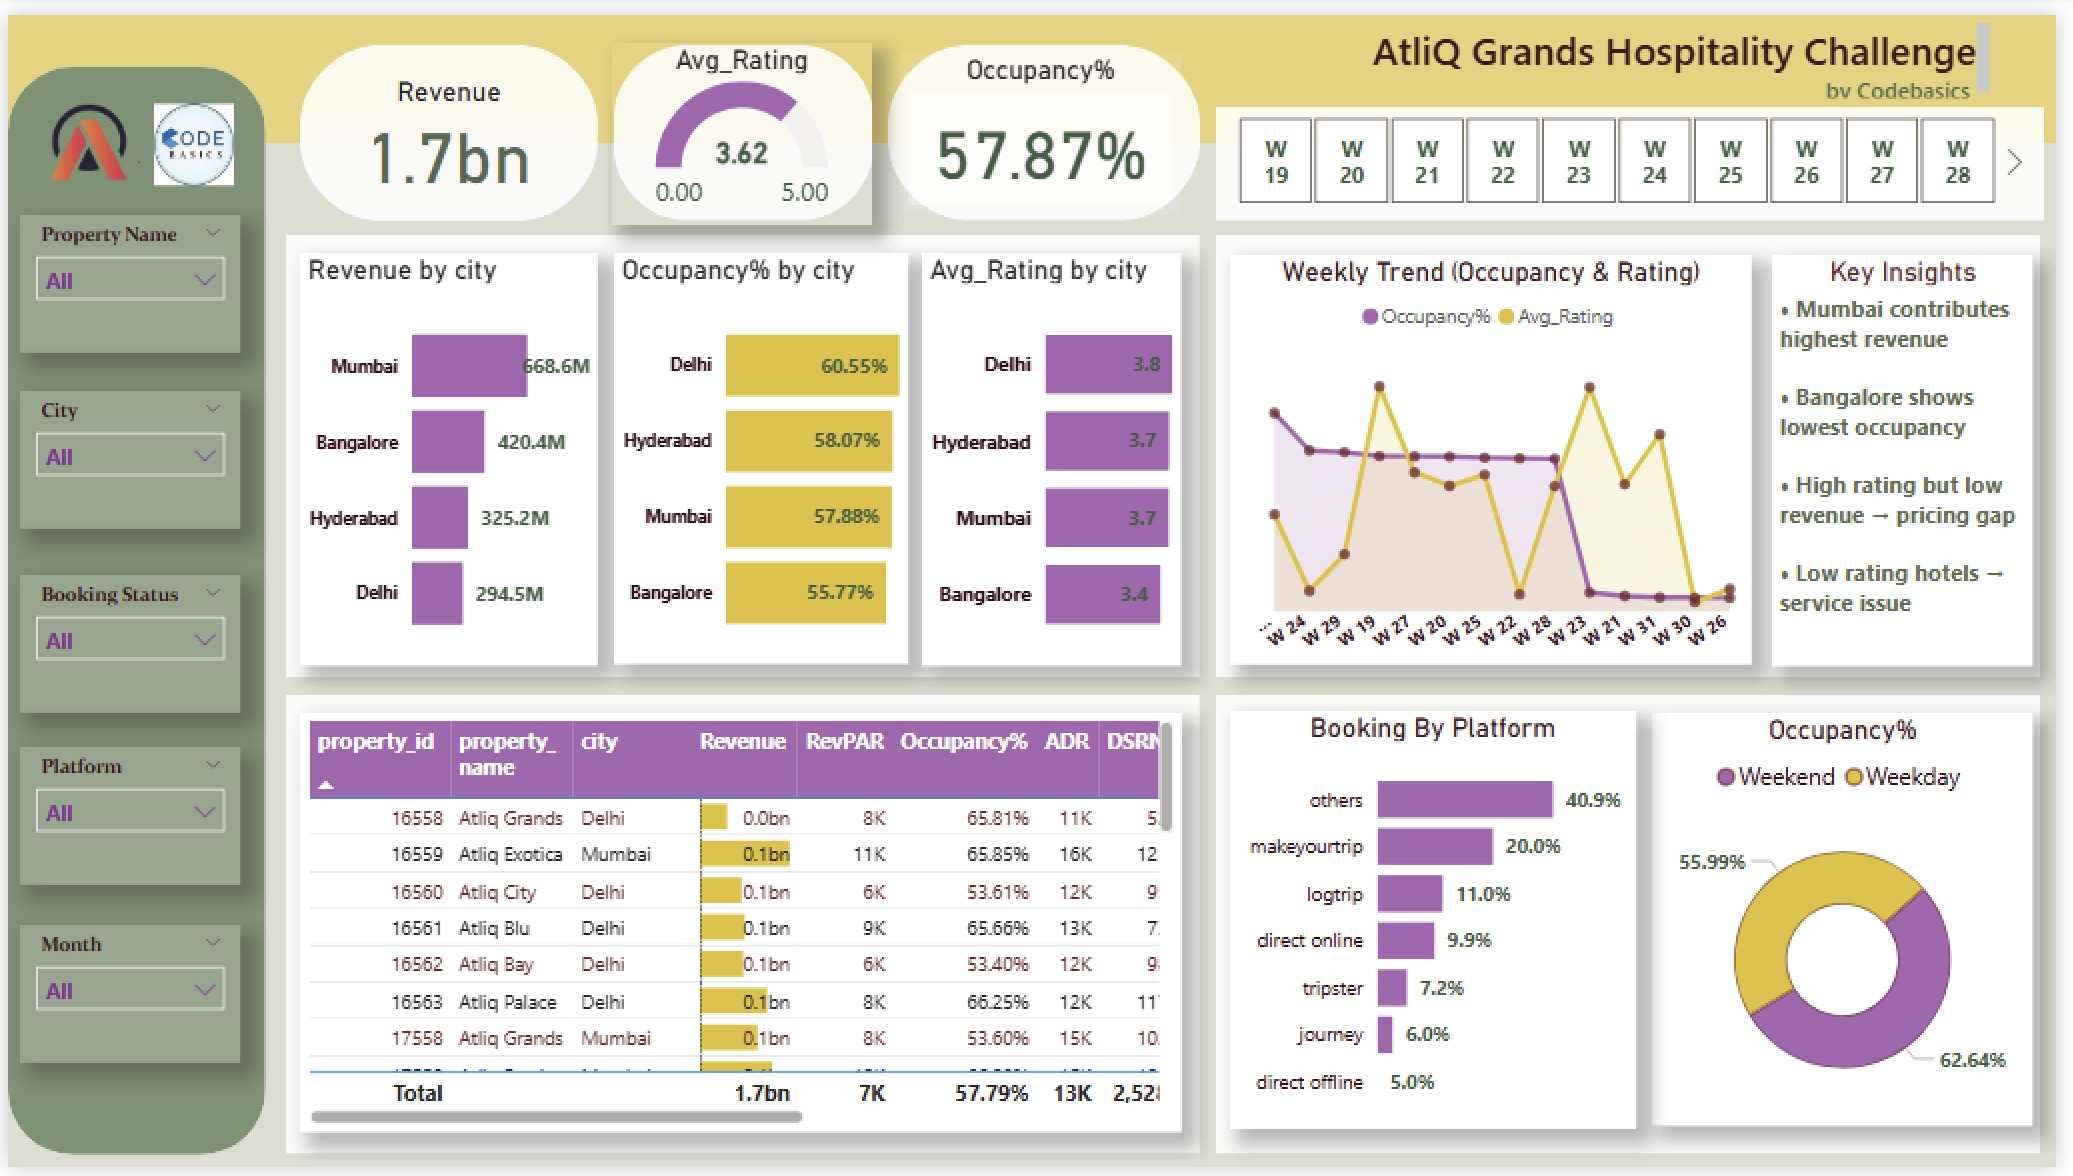

The page's visual inventory and layout, read from the dashboard file:
{"tool":"powerbi","page":{"name":"Executive Overview","canvas":[1280,720],"ordinal":0},"visuals":[{"type":"shape","box":[754.7,137.7,515.1,276.7],"z":0},{"type":"shape","box":[0,0,1280,80.3],"z":1000},{"type":"shape","box":[754.7,424.5,515.1,286.9],"z":2000},{"type":"donutChart","title":"Occupancy%","fields":{"Y":["Key_Measures.Occupancy%"],"Category":["dim_date.Day_Type"]},"box":[1027.4,435.7,238.1,258.3],"z":3000},{"type":"clusteredBarChart","title":"Booking By Platform","fields":{"Category":["fact_bookings.booking_platform"],"Y":["Key_Measures.Platform_Booking %"]},"box":[764.3,434.5,253.6,260.7],"z":4000},{"type":"lineChart","title":"Weekly Trend (Occupancy & Rating)","fields":{"Category":["dim_date.week no"],"Y":["Key_Measures.Occupancy%"],"Y2":["Key_Measures.Avg_Rating"]},"box":[764.3,150,326.2,256],"z":5000},{"type":"shape","box":[173.4,424.5,571.2,286.9],"z":6000},{"type":"tableEx","fields":{"Values":["dim_hotels.property_id","dim_hotels.property_name","dim_hotels.city","Key_Measures.Revenue","Key_Measures.RevPAR(Revenue_Per_Available_Room)","Key_Measures.Occupancy%","Key_Measures.ADR(Avg_Daily_Rate)","Key_Measures.DSRN(Daily_Sellable_Room_Nights)","Key_Measures.DBRN(Daily_Booked_Room_Nights)","Key_Measures.DURN(Daily_Utilize_Room_Nights)","Key_Measures.Realisation%(Successful_checked out)","Key_Measures.Cancellation%"]},"box":[182.1,435.7,551.2,261.9],"z":7000},{"type":"shape","box":[173.4,137.7,571.2,276.7],"z":8000},{"type":"clusteredBarChart","fields":{"Category":["dim_hotels.city"],"Y":["Key_Measures.Revenue"]},"box":[182.3,149.2,186.1,257.5],"z":9000},{"type":"clusteredBarChart","fields":{"Category":["dim_hotels.city"],"Y":["Key_Measures.Occupancy%"]},"box":[378.6,149.2,183.6,257],"z":10000},{"type":"clusteredBarChart","fields":{"Y":["Key_Measures.Avg_Rating"],"Category":["dim_hotels.city"]},"box":[571.2,149.2,161.9,257.5],"z":11000},{"type":"shape","box":[0,32.2,160.9,679.8],"z":12000},{"type":"slicer","fields":{"Values":["dim_hotels.property_name"]},"box":[8,124.7,138.1,85.8],"z":13000},{"type":"shape","box":[754.7,57.4,517.6,71.4],"z":14000},{"type":"slicer","fields":{"Values":["dim_date.week no"]},"box":[744.1,57.7,521.6,67],"z":15000},{"type":"shape","box":[549.5,19.1,195.1,109.6],"z":16000},{"type":"shape","box":[182.3,18.8,186.4,109.9],"z":17000},{"type":"cardVisual","title":"Revenue","fields":{"Data":["Key_Measures.Revenue"]},"box":[185.7,37.1,178.6,74.3],"z":18000},{"type":"shape","box":[378.6,19.1,161.9,109.6],"z":19000},{"type":"cardVisual","title":"Occupancy%","fields":{"Data":["Key_Measures.Occupancy%"]},"box":[557.8,24.1,175.6,100.6],"z":20000},{"type":"gauge","fields":{"Y":["Key_Measures.Avg_Rating"]},"box":[378.1,17.4,162.2,114],"z":21000},{"type":"slicer","title":"Booking Platform","fields":{"Values":["fact_bookings.booking_platform"]},"box":[8,457.2,138.1,85.8],"z":22000},{"type":"slicer","fields":{"Values":["dim_date.mmm yy"]},"box":[8,568.5,138.1,85.8],"z":23000},{"type":"slicer","title":"Booking Platform","fields":{"Values":["fact_bookings.booking_status"]},"box":[8,349.9,138.1,85.8],"z":24000},{"type":"slicer","title":"Booking Platform","fields":{"Values":["dim_hotels.city"]},"box":[8,234.6,138.1,85.8],"z":25000},{"type":"textbox","box":[832.8,0,410.8,57.3],"z":26000},{"type":"image","box":[85.8,46.9,60.3,67],"z":27000},{"type":"image","box":[8,40.2,81.8,79.1],"z":28000},{"type":"textbox","title":"Key Insights","box":[1102.5,149.5,163.5,257.1],"z":29500}]}

Visuals, with their boxes in screenshot pixels (x1, y1, x2, y2), scaled from the page's 1280x720 canvas onto the 2073x1176 screenshot:
shape: [x1=1222, y1=225, x2=2056, y2=677]
shape: [x1=0, y1=0, x2=2072, y2=131]
shape: [x1=1222, y1=693, x2=2056, y2=1162]
"Occupancy%" donutChart: [x1=1664, y1=712, x2=2050, y2=1134]
"Booking By Platform" clusteredBarChart: [x1=1238, y1=710, x2=1649, y2=1135]
"Weekly Trend (Occupancy & Rating)" lineChart: [x1=1238, y1=245, x2=1766, y2=663]
shape: [x1=281, y1=693, x2=1206, y2=1162]
tableEx - dim_hotels.property_id x dim_hotels.property_name: [x1=295, y1=712, x2=1188, y2=1139]
shape: [x1=281, y1=225, x2=1206, y2=677]
clusteredBarChart - dim_hotels.city x Key_Measures.Revenue: [x1=295, y1=244, x2=597, y2=664]
clusteredBarChart - dim_hotels.city x Key_Measures.Occupancy%: [x1=613, y1=244, x2=911, y2=663]
clusteredBarChart - Key_Measures.Avg_Rating x dim_hotels.city: [x1=925, y1=244, x2=1187, y2=664]
shape: [x1=0, y1=53, x2=261, y2=1163]
slicer - dim_hotels.property_name: [x1=13, y1=204, x2=237, y2=344]
shape: [x1=1222, y1=94, x2=2061, y2=210]
slicer - dim_date.week no: [x1=1205, y1=94, x2=2050, y2=204]
shape: [x1=890, y1=31, x2=1206, y2=210]
shape: [x1=295, y1=31, x2=597, y2=210]
"Revenue" cardVisual: [x1=301, y1=61, x2=590, y2=182]
shape: [x1=613, y1=31, x2=875, y2=210]
"Occupancy%" cardVisual: [x1=903, y1=39, x2=1188, y2=204]
gauge - Key_Measures.Avg_Rating: [x1=612, y1=28, x2=875, y2=215]
"Booking Platform" slicer: [x1=13, y1=747, x2=237, y2=887]
slicer - dim_date.mmm yy: [x1=13, y1=929, x2=237, y2=1069]
"Booking Platform" slicer: [x1=13, y1=572, x2=237, y2=712]
"Booking Platform" slicer: [x1=13, y1=383, x2=237, y2=523]
textbox: [x1=1349, y1=0, x2=2014, y2=94]
image: [x1=139, y1=77, x2=237, y2=186]
image: [x1=13, y1=66, x2=145, y2=195]
"Key Insights" textbox: [x1=1786, y1=244, x2=2050, y2=664]
